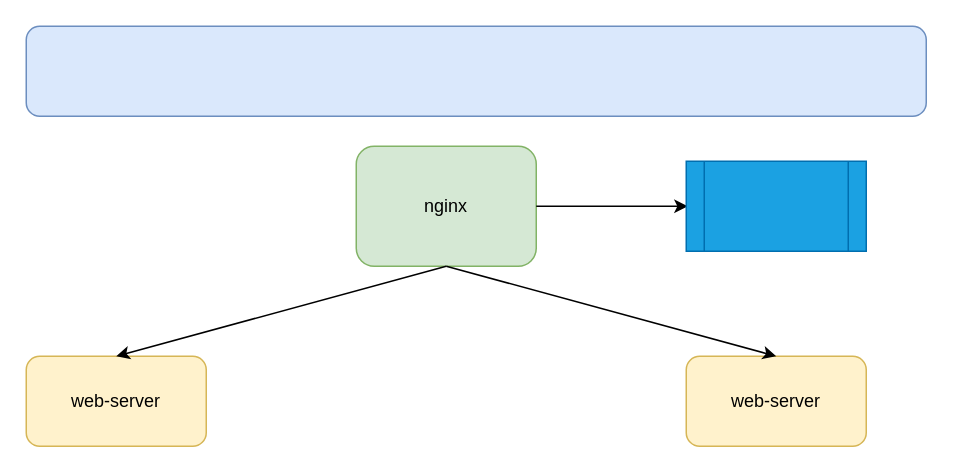
This 953x473 diagram has some shape labels left out. The shapes that lost their labels are listed below. From the top down, each one's box as (x1, y1, x2, y2) in pixels, then its label:
(25, 25, 926, 116): 反向代理-server
(685, 160, 866, 251): nginx.conf
